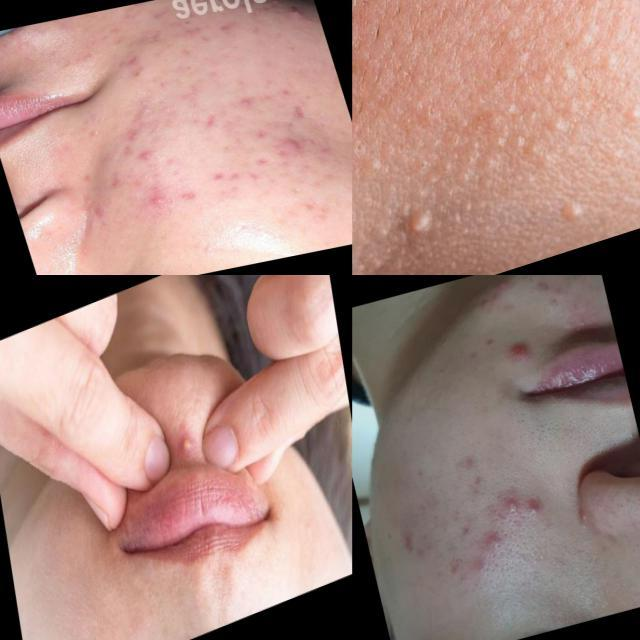Pimples: (205, 150, 278, 194), (496, 320, 537, 370), (138, 180, 186, 220), (277, 94, 326, 130), (291, 188, 337, 222), (492, 484, 528, 524), (270, 125, 312, 159), (176, 414, 201, 466), (462, 546, 494, 582), (230, 86, 263, 118), (482, 526, 510, 562), (282, 0, 317, 26), (524, 489, 552, 521), (270, 78, 308, 100), (195, 108, 221, 136), (108, 213, 128, 233)
